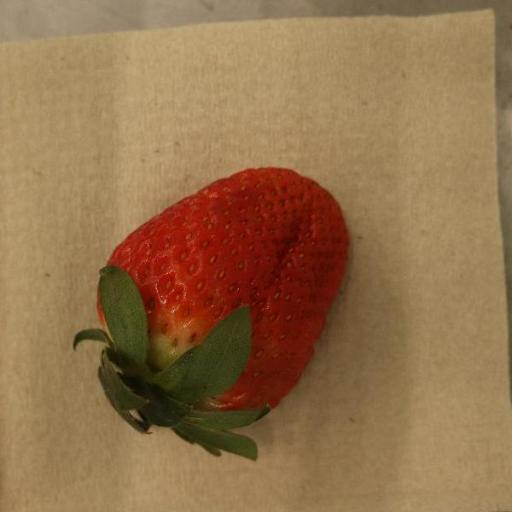Strawberry: (72, 168, 350, 463)
